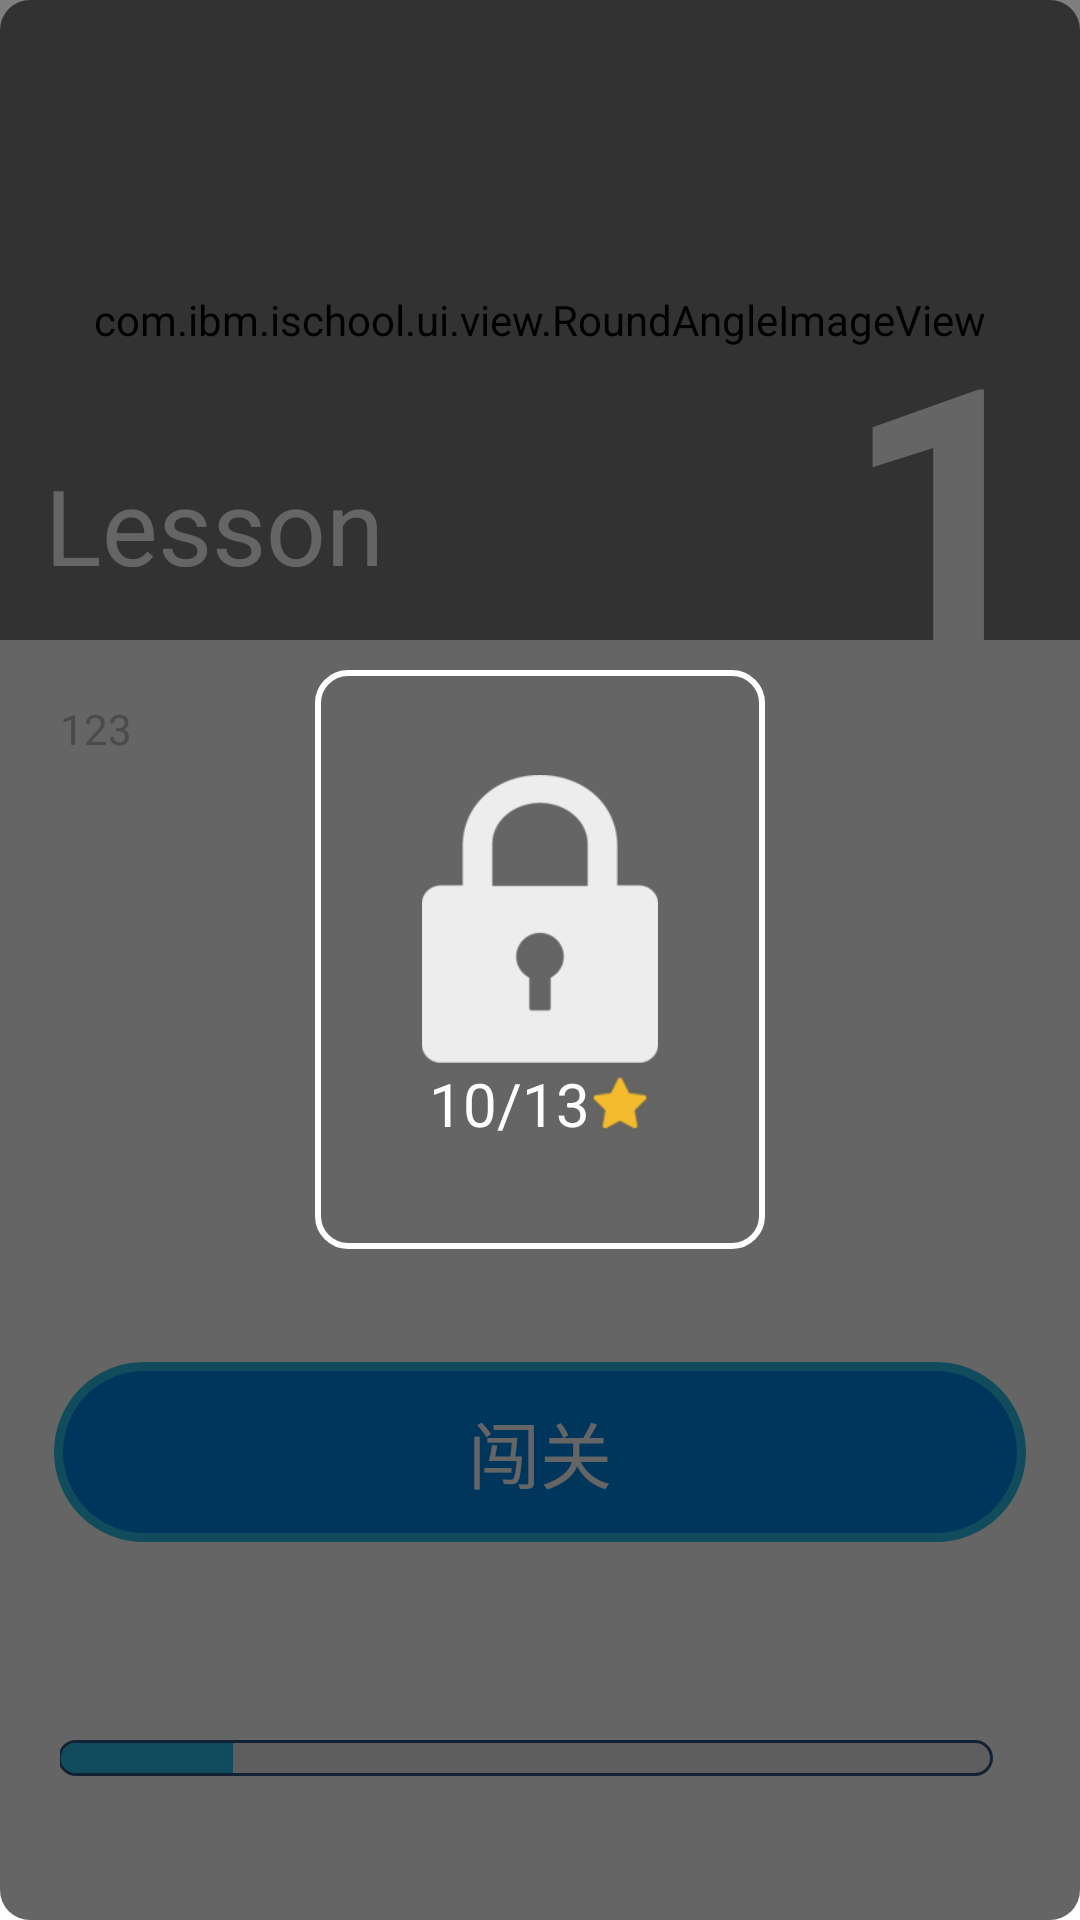

Screen size 1080*1920. Icon name, then its box in pixels as (x1,y1,x2,y2):
lock single: (422,775,658,1063)
star get: (593,1077,647,1129)
